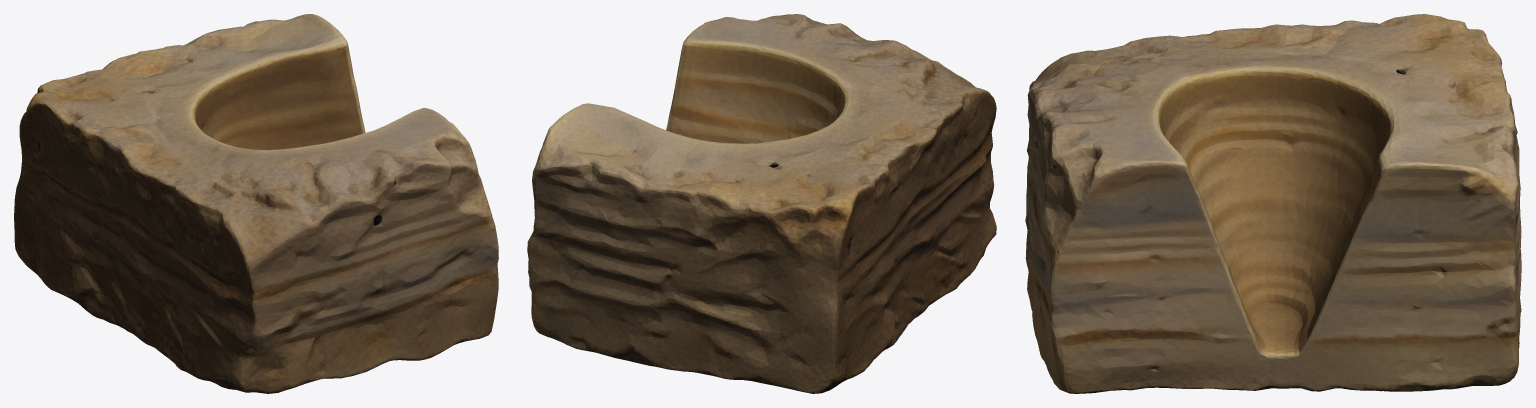
The picture shows the model from 3 angles, left to right: view 1: azimuth 30°, elevation 25°; view 2: azimuth 150°, elevation 25°; view 3: azimuth 270°, elevation 25°; orthographic projection. The views are drawn at different scales.
Visible parts, largest first — view 1: world; view 2: world; view 3: world.
Boxes of the visible parts, x1,y1,x2,y2 form: world: (14,14,498,393); world: (527,14,996,393); world: (1025,14,1521,393).
Bounding box in the file's own units: 0.193 × 0.1223 × 0.24.
1 material, 1 textured.
